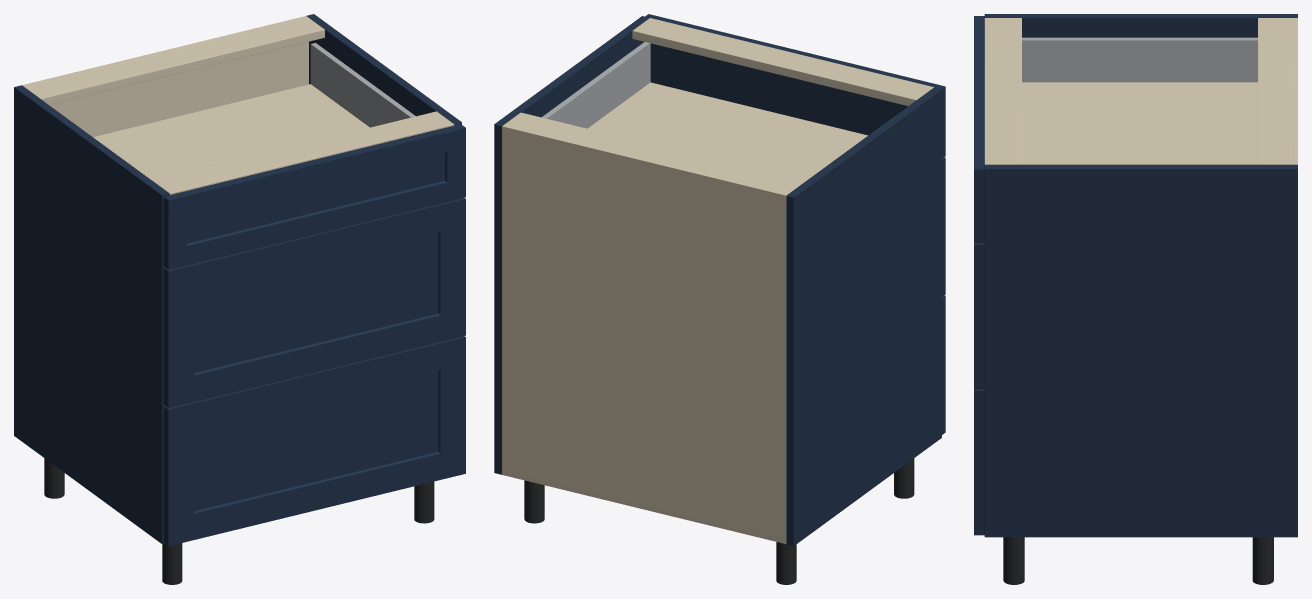
Rendered from oppein-ply-bss-3db27.glb.
3 views of the same model, side by side, from view 1: azimuth 30°, elevation 25°; view 2: azimuth 150°, elevation 25°; view 3: azimuth 270°, elevation 25° (orthographic). The views are drawn at different scales.
Visible parts, largest first — view 1: Cabinet side, Drawer front, Drawer front.001, Drawer front.002, Drawer floor.002, Cabinet back, Top support rail, Top support rail.001, Drawer side.005, Cabinet side.001, Adjustable foot.001, Adjustable foot.003 (+1 smaller); view 2: Cabinet back, Cabinet side, Drawer floor.002, Drawer front.002, Top support rail.001, Cabinet side.001, Top support rail, Drawer side.005, Cabinet bottom, Adjustable foot, Adjustable foot.002, Adjustable foot.001; view 3: Cabinet side.001, Drawer floor.002, Drawer side.004, Cabinet side, Top support rail.001, Top support rail, Drawer front.002, Drawer front, Drawer front.001, Adjustable foot.003, Adjustable foot.002, Cabinet back.
Part boxes in pixels (<box>): Cabinet side: <box>14,85,169,544</box>; Drawer front: <box>163,336,465,546</box>; Drawer front.001: <box>163,198,465,407</box>; Drawer front.002: <box>163,124,465,269</box>; Drawer floor.002: <box>93,84,369,180</box>; Cabinet back: <box>22,16,308,136</box>; Top support rail: <box>25,18,324,104</box>; Top support rail.001: <box>152,111,454,194</box>; Drawer side.005: <box>310,43,415,127</box>; Cabinet side.001: <box>306,14,461,125</box>; Adjustable foot.001: <box>162,543,182,584</box>; Adjustable foot.003: <box>414,481,434,523</box>; Cabinet back: <box>502,124,788,543</box>; Cabinet side: <box>786,87,941,545</box>; Drawer floor.002: <box>588,82,867,181</box>; Drawer front.002: <box>645,14,945,158</box>; Top support rail.001: <box>632,18,933,105</box>; Cabinet side.001: <box>494,16,649,474</box>; Top support rail: <box>505,112,804,193</box>; Drawer side.005: <box>541,42,650,128</box>; Cabinet bottom: <box>502,469,786,543</box>; Adjustable foot: <box>776,542,796,584</box>; Adjustable foot.002: <box>524,480,544,523</box>; Adjustable foot.001: <box>894,458,914,498</box>; Cabinet side.001: <box>984,164,1297,537</box>; Drawer floor.002: <box>1022,82,1257,164</box>; Drawer side.004: <box>1022,37,1257,82</box>; Cabinet side: <box>984,14,1297,37</box>; Top support rail.001: <box>984,18,1021,164</box>; Top support rail: <box>1258,18,1291,164</box>; Drawer front.002: <box>974,16,984,242</box>; Drawer front: <box>974,389,984,535</box>; Drawer front.001: <box>974,243,984,389</box>; Adjustable foot.003: <box>1003,537,1024,584</box>; Adjustable foot.002: <box>1252,537,1273,584</box>; Cabinet back: <box>1292,18,1297,164</box>.
Bounding box in the file's own units: 0.6858 × 0.8763 × 0.6064.
